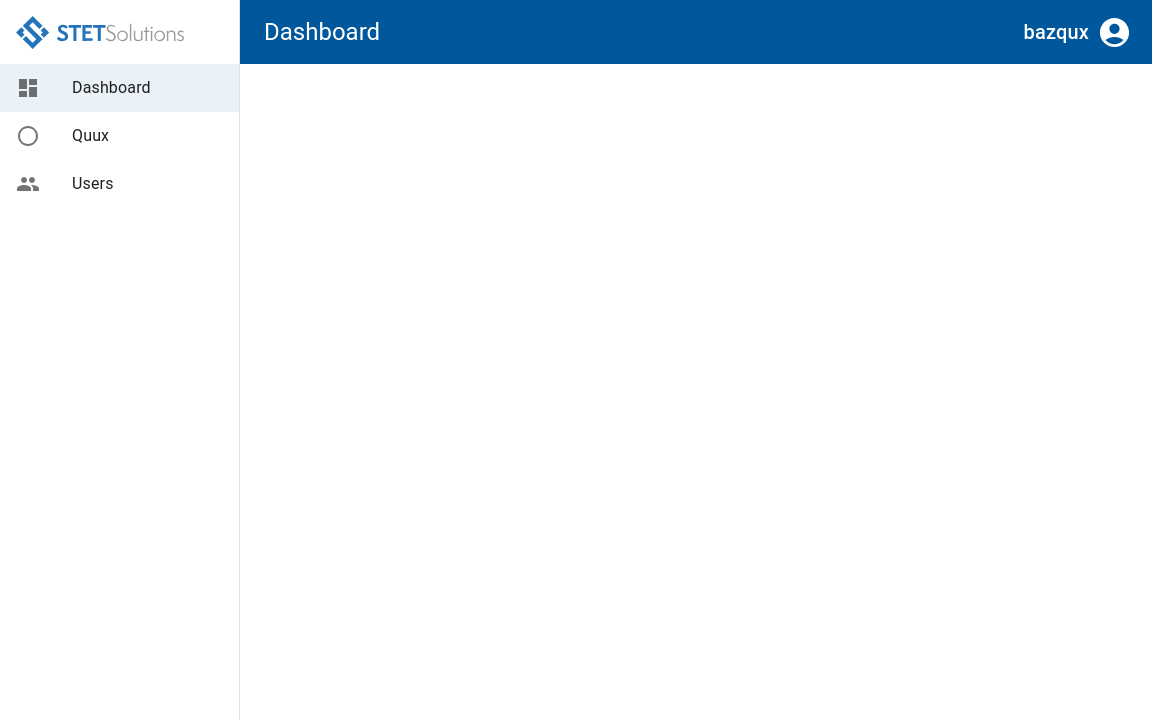
Test: Header :: navigates on menu item click
Click the button named "open menu" at (1114, 32), box [1089,6,1140,58]
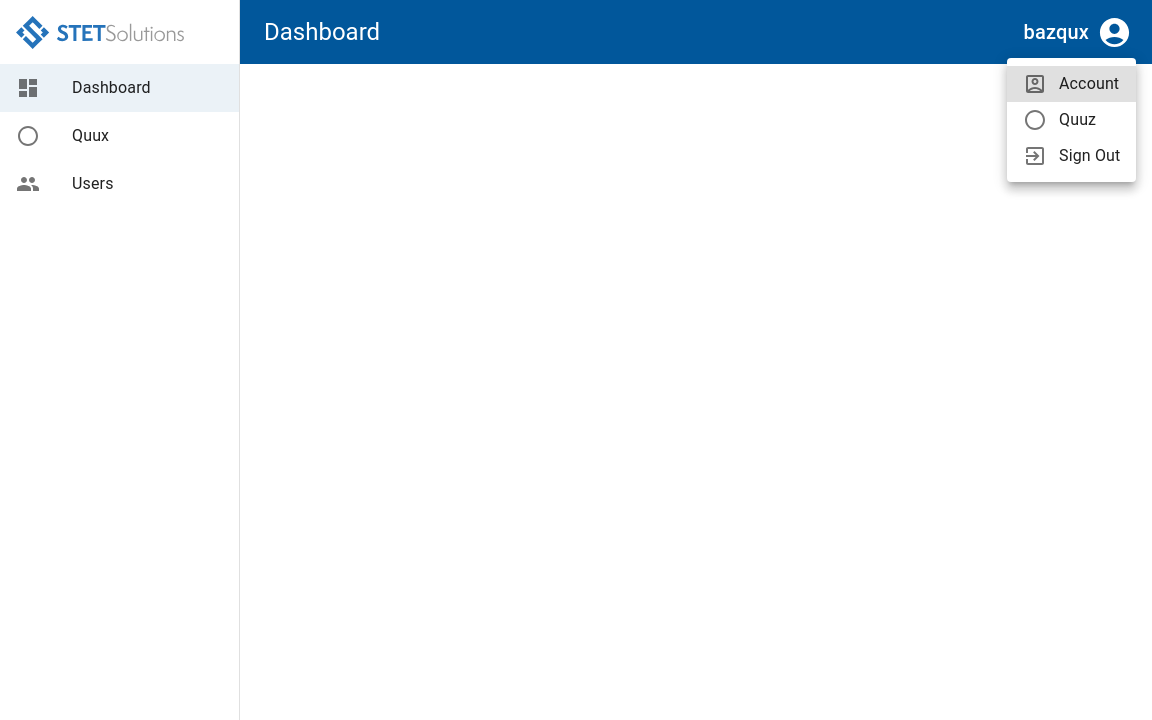
Click the menu item "Account" at (1072, 84), box [1007,66,1136,102]
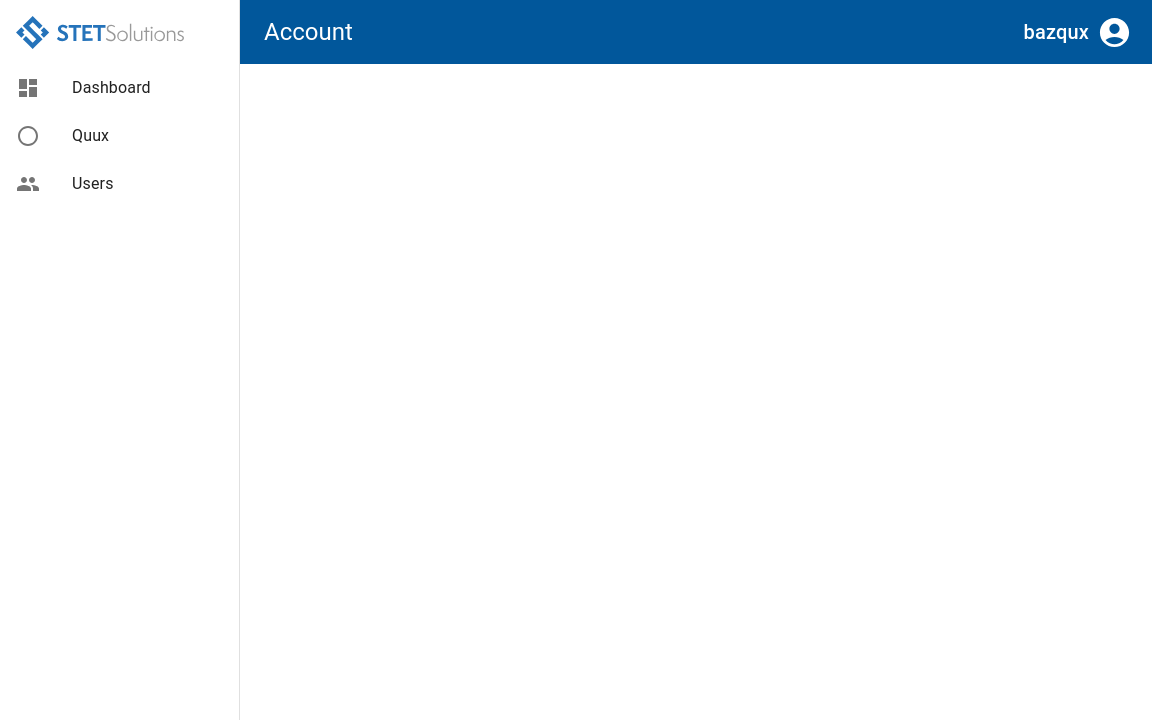
Expected: the heading "Account" is shown, [264,18,353,46]
